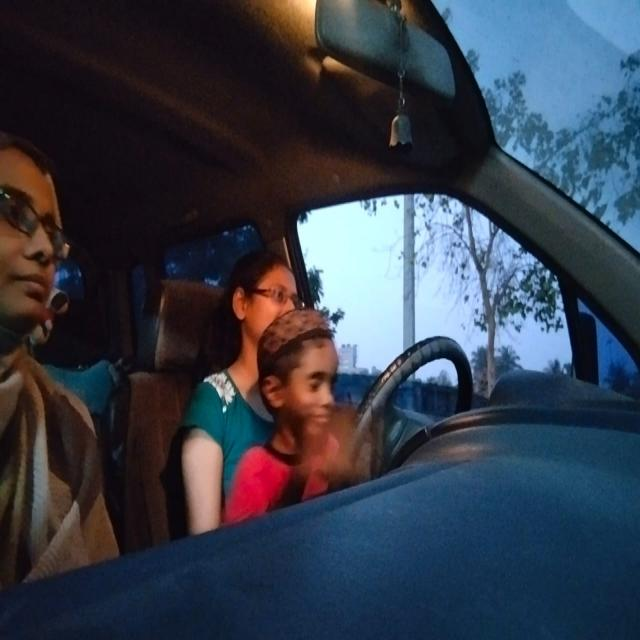child: (256, 307, 350, 445)
person: (1, 119, 86, 396), (209, 239, 335, 345)
